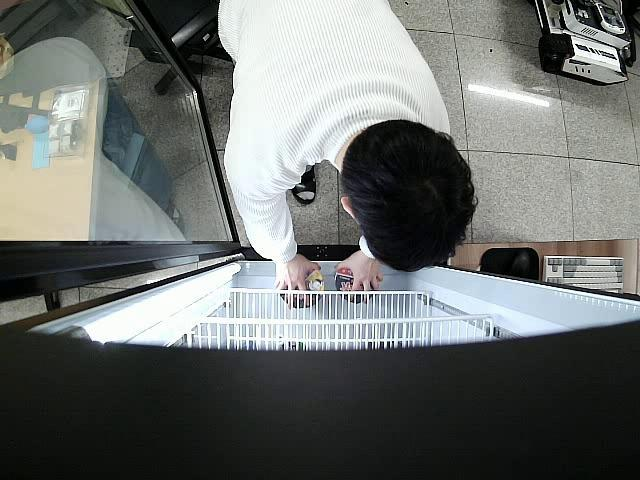07_buldak_L: (282, 271, 326, 308), (334, 269, 365, 304)
